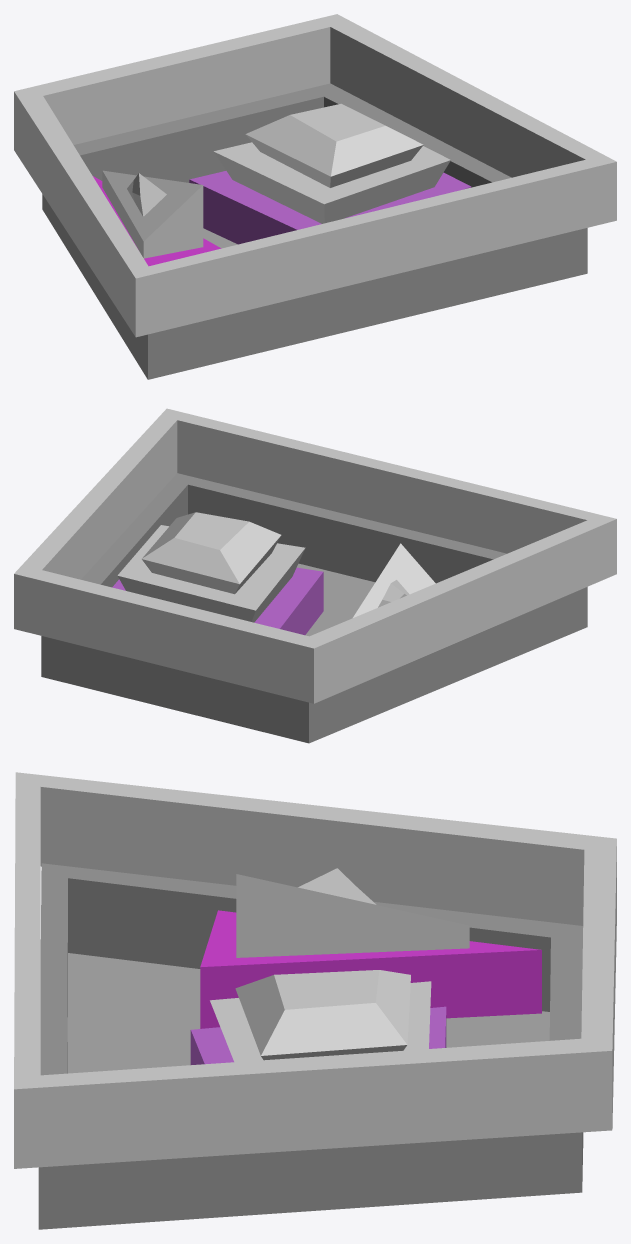
Rendered from level0_2.fbx.
3 renders of one model, top to bottom at view 1: azimuth 30°, elevation 25°; view 2: azimuth 150°, elevation 25°; view 3: azimuth 270°, elevation 25°, orthographic. The views are drawn at different scales.
Parts seen in each view (by area): view 1: 0-2_upper_wall, 0-2_lower_wall, 0-2_pillar_purple_top, 0-2_pillar_magenta_top, 0-2_pillar_purple, 0-2_pillar_magenta; view 2: 0-2_upper_wall, 0-2_lower_wall, 0-2_pillar_purple_top, 0-2_pillar_purple, 0-2_pillar_magenta_top, 0-2_floor; view 3: 0-2_upper_wall, 0-2_lower_wall, 0-2_floor, 0-2_pillar_purple_top, 0-2_pillar_magenta, 0-2_pillar_magenta_top, 0-2_pillar_purple.
Boxes of the visible parts, x1=… form: 0-2_upper_wall: x1=14, y1=14, x2=616, y2=337; 0-2_lower_wall: x1=42, y1=83, x2=587, y2=379; 0-2_pillar_purple_top: x1=213, y1=103, x2=450, y2=223; 0-2_pillar_magenta_top: x1=102, y1=170, x2=203, y2=258; 0-2_pillar_purple: x1=189, y1=171, x2=471, y2=244; 0-2_pillar_magenta: x1=93, y1=176, x2=221, y2=266; 0-2_upper_wall: x1=14, y1=408, x2=616, y2=703; 0-2_lower_wall: x1=41, y1=473, x2=587, y2=743; 0-2_pillar_purple_top: x1=117, y1=512, x2=305, y2=622; 0-2_pillar_purple: x1=112, y1=567, x2=323, y2=635; 0-2_pillar_magenta_top: x1=353, y1=543, x2=435, y2=617; 0-2_floor: x1=296, y1=563, x2=375, y2=636; 0-2_upper_wall: x1=14, y1=772, x2=616, y2=1168; 0-2_lower_wall: x1=38, y1=863, x2=583, y2=1229; 0-2_floor: x1=67, y1=953, x2=549, y2=1073; 0-2_pillar_purple_top: x1=210, y1=970, x2=431, y2=1062; 0-2_pillar_magenta: x1=200, y1=910, x2=541, y2=1028; 0-2_pillar_magenta_top: x1=236, y1=868, x2=469, y2=957; 0-2_pillar_purple: x1=190, y1=1006, x2=446, y2=1064.
Bounding box in the file's own units: 28.88 × 6.62 × 23.21.
